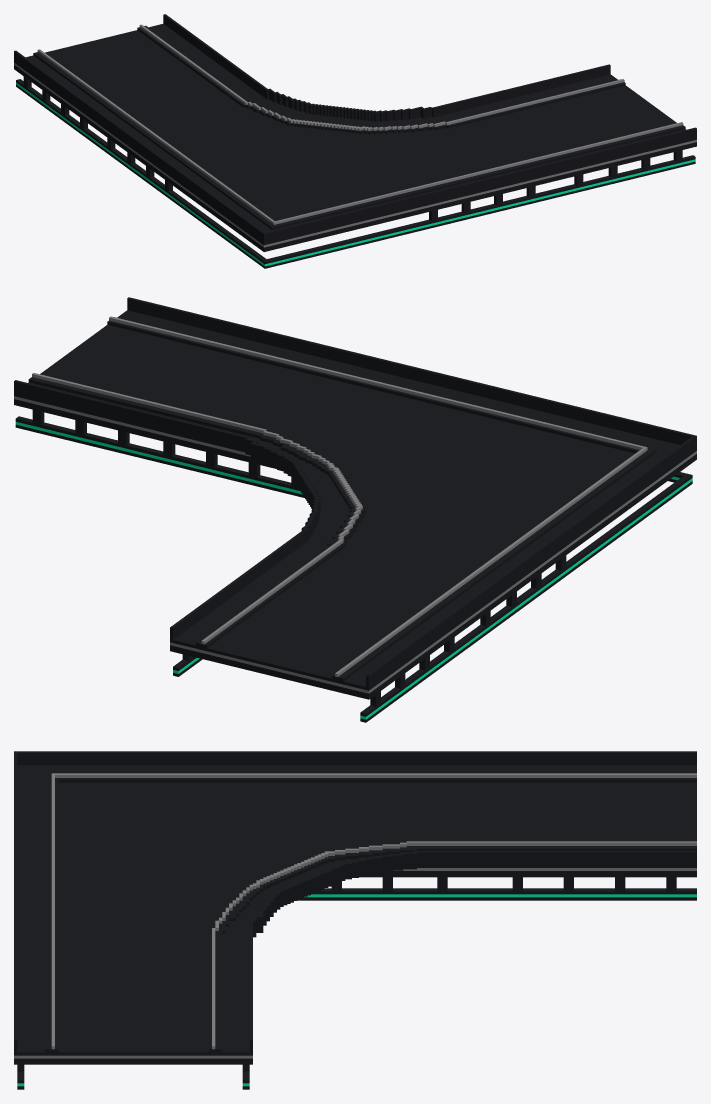
Rendered from Rail_002.obj.
3 views of the same model, one above another, from view 1: azimuth 30°, elevation 25°; view 2: azimuth 150°, elevation 25°; view 3: azimuth 270°, elevation 25° (orthographic). The views are drawn at different scales.
Bounding box in the file's own units: 20 × 1.6 × 20.
1 material, 1 textured.
